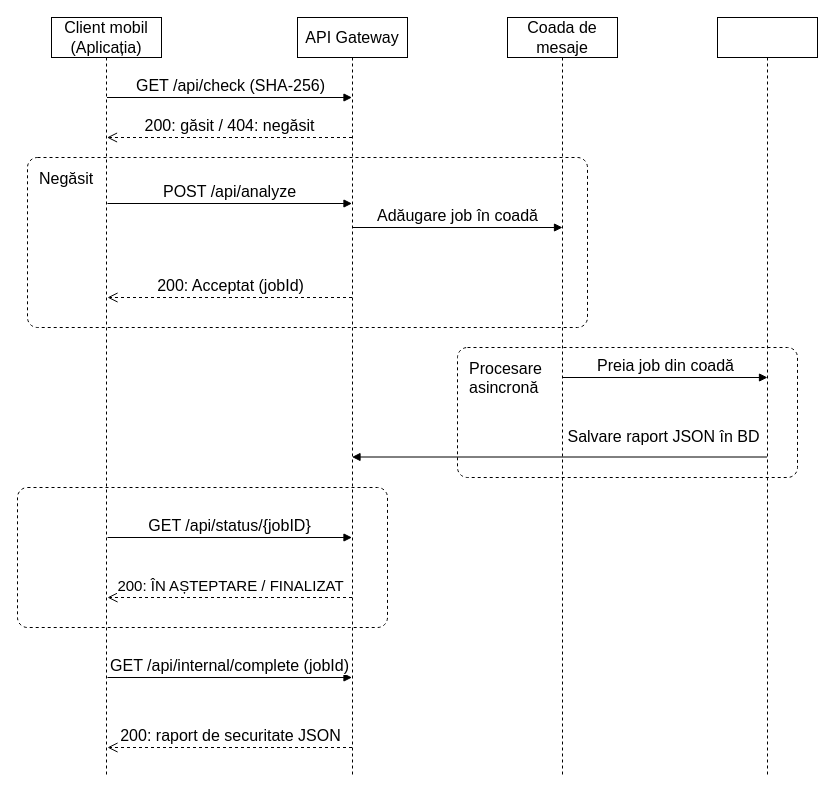
Some shapes in this 835 by 795 pixel diagram are drawn without their labels. The shapes that lost their labels are listed below. From the top down, each one's box as (x1, y1, x2, y2) in pixels, then its label:
(716, 16, 818, 778): Worker
(16, 486, 388, 628): Interogare
